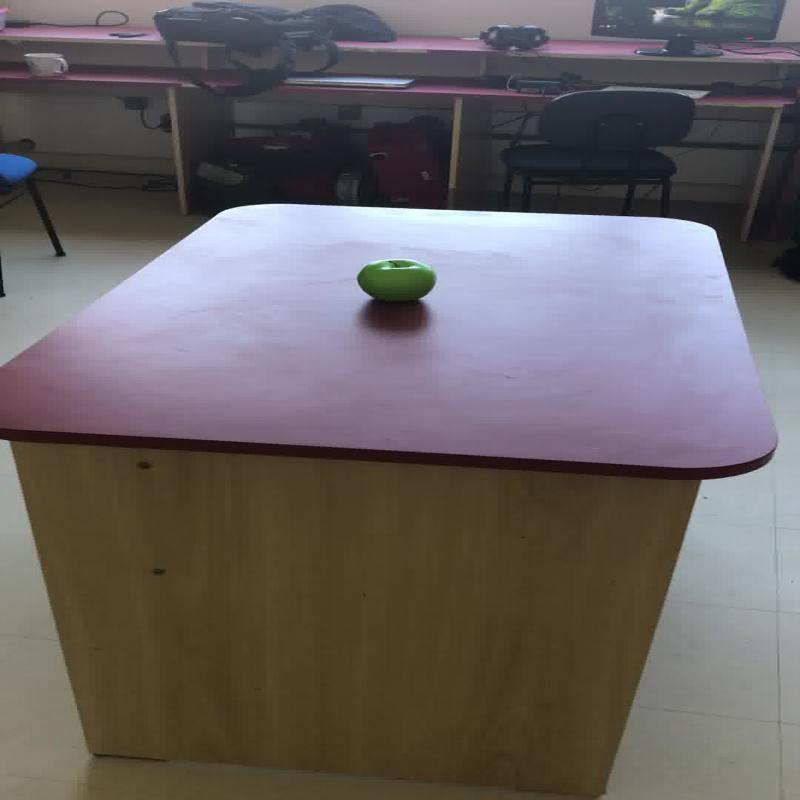apple: (355, 258, 436, 302)
